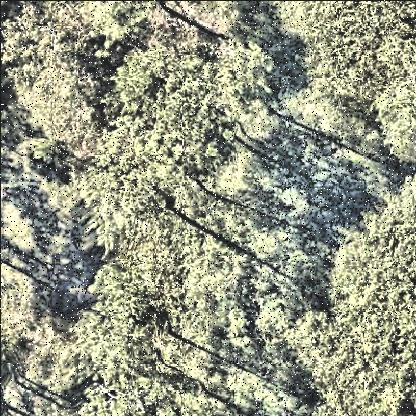tree-top: (301, 168, 416, 416), (262, 2, 416, 171), (124, 35, 272, 159), (3, 2, 98, 170), (63, 257, 153, 394)
